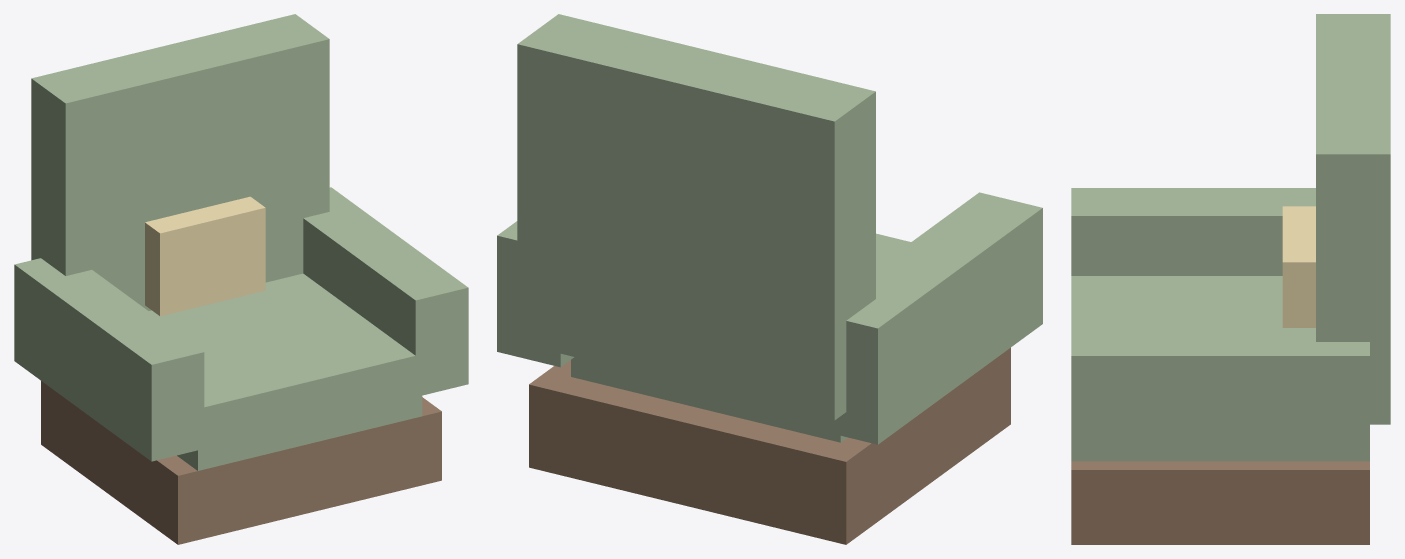
The model's file is GrandmaArmchair.glb.
3 renders of one model, left to right at view 1: azimuth 30°, elevation 25°; view 2: azimuth 150°, elevation 25°; view 3: azimuth 270°, elevation 25°, orthographic. The views are drawn at different scales.
Visible parts, largest first — view 1: ChairBack, ChairSeat, ChairBase, ArmLeft, ArmRight, Cushion; view 2: ChairBack, ChairBase, ArmLeft, ChairSeat, ArmRight; view 3: ArmRight, ChairBack, ChairBase, ArmLeft, ChairSeat, Cushion.
Boxes of the visible parts, bbox=[...] form: ChairBack: bbox=[31, 14, 329, 310]; ChairSeat: bbox=[149, 273, 422, 470]; ChairBase: bbox=[41, 381, 441, 544]; ArmLeft: bbox=[14, 258, 204, 461]; ArmRight: bbox=[303, 187, 468, 395]; Cushion: bbox=[145, 196, 265, 316]; ChairBack: bbox=[517, 14, 875, 420]; ChairBase: bbox=[529, 347, 1010, 544]; ArmLeft: bbox=[814, 192, 1042, 444]; ChairSeat: bbox=[571, 233, 910, 442]; ArmRight: bbox=[497, 221, 574, 367]; ArmRight: bbox=[1071, 328, 1369, 461]; ChairBack: bbox=[1316, 14, 1390, 424]; ChairBase: bbox=[1071, 461, 1369, 544]; ArmLeft: bbox=[1071, 188, 1315, 275]; ChairSeat: bbox=[1071, 276, 1282, 327]; Cushion: bbox=[1282, 206, 1315, 327].
Bounding box in the file's own units: 4.8 × 5.2 × 3.85.
